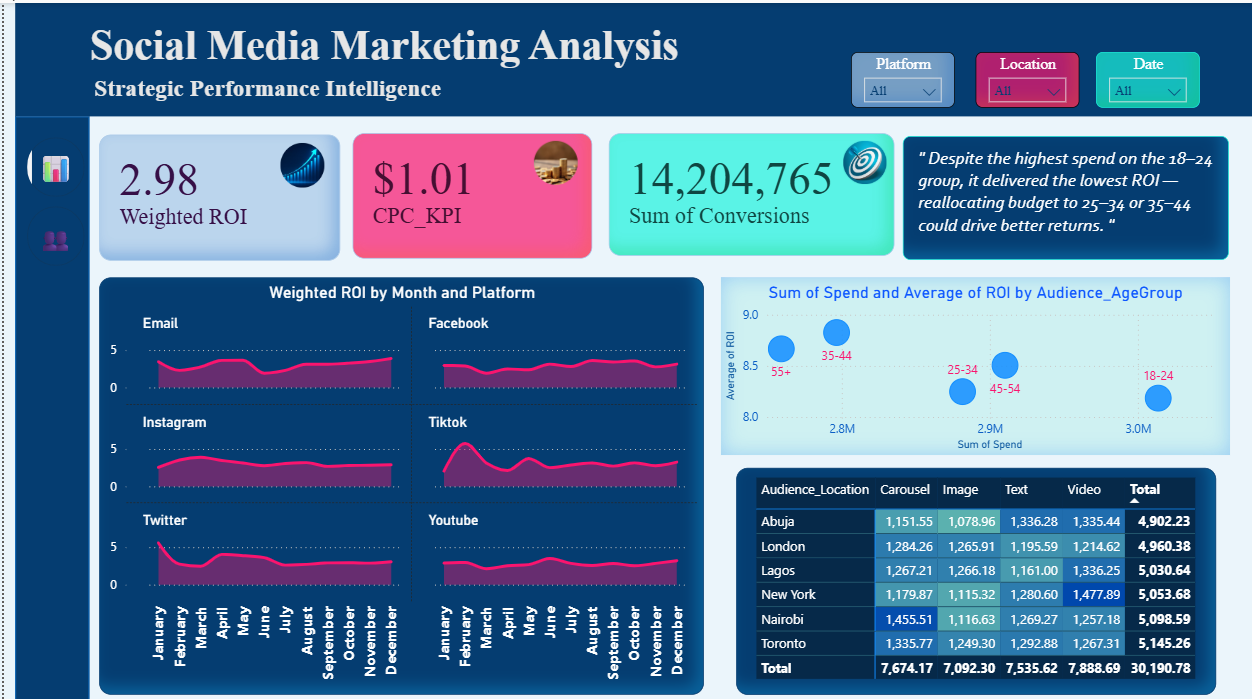

The dashboard page shown, as its layout file describes it:
{"tool":"powerbi","page":{"name":"📊","canvas":[1280,720],"ordinal":0},"visuals":[{"type":"shape","box":[11.5,116.3,76.1,604.3],"z":0},{"type":"group","id":"g1","title":"Group 1","box":[357.2,134.2,245.9,128.6],"z":0,"group":"g5"},{"type":"multiRowCard","fields":{"Values":["Sheet1.CPC_KPI"]},"box":[357.2,134.2,245.9,128.6],"z":0,"group":"g1"},{"type":"group","id":"g2","title":"Group 2","box":[620.3,134.2,292.7,125.5],"z":0,"group":"g6"},{"type":"group","id":"g3","title":"Group 1","box":[620.3,134.2,292.7,125.5],"z":0,"group":"g2"},{"type":"multiRowCard","fields":{"Values":["Sum(Sheet1.Conversions)"]},"box":[620.3,134.2,292.7,125.5],"z":0,"group":"g3"},{"type":"multiRowCard","fields":{"Values":["Sheet1.Weighted ROI"]},"box":[97.6,134.9,246.9,129.2],"z":0,"group":"g4"},{"type":"shape","box":[11.5,0,1268.9,116.3],"z":1000},{"type":"image","box":[856,134,54,60],"z":1000,"group":"g6"},{"type":"image","box":[538,134.2,55,60.8],"z":1000,"group":"g5"},{"type":"image","box":[279.1,134.9,55.2,62.8],"z":1000,"group":"g4"},{"type":"pageNavigator","box":[18.7,127.8,64.6,153.6],"z":2000},{"type":"textbox","box":[83.3,14.4,641.6,70.3],"z":3000},{"type":"textbox","box":[87.6,68.9,647.4,47.4],"z":4000},{"type":"slicer","title":"Platform","fields":{"Values":["Sheet1.Platform"]},"box":[868.4,50.2,106.2,57.4],"z":5000},{"type":"slicer","title":"Location","fields":{"Values":["Sheet1.Audience_Location"]},"box":[996.2,50.2,106.2,57.4],"z":6000},{"type":"slicer","title":"Date","fields":{"Values":["Calendar.Month"]},"box":[1119.6,50.2,106.2,57.4],"z":7000},{"type":"scatterChart","fields":{"X":["Sum(Sheet1.Spend)"],"Y":["Avg(Sheet1.ROI)"],"Category":["Sheet1.Audience_AgeGroup"]},"box":[734.9,281.3,522.5,182.3],"z":8000},{"type":"areaChart","fields":{"Category":["Calendar.Month"],"Y":["Sheet1.Weighted ROI"],"Rows":["Sheet1.Platform"]},"box":[97.6,281.3,620.1,427.8],"z":9000},{"type":"pivotTable","fields":{"Rows":["Sheet1.Audience_Location"],"Values":["Sum(Sheet1.CPC (USD))"],"Columns":["Sheet1.Post_Type"]},"box":[750.7,476.6,492.4,232.5],"z":10000},{"type":"group","id":"g4","title":"Group 1","box":[97.6,134.9,246.9,129.2],"z":11000},{"type":"group","id":"g5","title":"Group 2","box":[357.2,134.2,245.7,127.2],"z":12000},{"type":"group","id":"g6","title":"Group 3","box":[620.3,134,292.7,125.6],"z":13000},{"type":"textbox","box":[921.8,135.9,334.6,127.2],"z":14000}]}

Visuals, with their boxes on the page's 1280x720 design canvas (x1, y1, x2, y2). These are canvas units, not pixel positions in the 1252x699 screenshot, which may show the page scaled, cropped or inside an application window:
shape: (x1=12, y1=116, x2=88, y2=721)
"Group 1" group: (x1=357, y1=134, x2=603, y2=263)
multiRowCard - Sheet1.CPC_KPI: (x1=357, y1=134, x2=603, y2=263)
"Group 2" group: (x1=620, y1=134, x2=913, y2=260)
"Group 1" group: (x1=620, y1=134, x2=913, y2=260)
multiRowCard - Sum(Sheet1.Conversions): (x1=620, y1=134, x2=913, y2=260)
multiRowCard - Sheet1.Weighted ROI: (x1=98, y1=135, x2=344, y2=264)
shape: (x1=12, y1=0, x2=1280, y2=116)
image: (x1=856, y1=134, x2=910, y2=194)
image: (x1=538, y1=134, x2=593, y2=195)
image: (x1=279, y1=135, x2=334, y2=198)
pageNavigator: (x1=19, y1=128, x2=83, y2=281)
textbox: (x1=83, y1=14, x2=725, y2=85)
textbox: (x1=88, y1=69, x2=735, y2=116)
"Platform" slicer: (x1=868, y1=50, x2=975, y2=108)
"Location" slicer: (x1=996, y1=50, x2=1102, y2=108)
"Date" slicer: (x1=1120, y1=50, x2=1226, y2=108)
scatterChart - Sum(Sheet1.Spend) x Avg(Sheet1.ROI): (x1=735, y1=281, x2=1257, y2=464)
areaChart - Calendar.Month x Sheet1.Weighted ROI: (x1=98, y1=281, x2=718, y2=709)
pivotTable - Sheet1.Audience_Location x Sum(Sheet1.CPC (USD)): (x1=751, y1=477, x2=1243, y2=709)
"Group 1" group: (x1=98, y1=135, x2=344, y2=264)
"Group 2" group: (x1=357, y1=134, x2=603, y2=261)
"Group 3" group: (x1=620, y1=134, x2=913, y2=260)
textbox: (x1=922, y1=136, x2=1256, y2=263)
